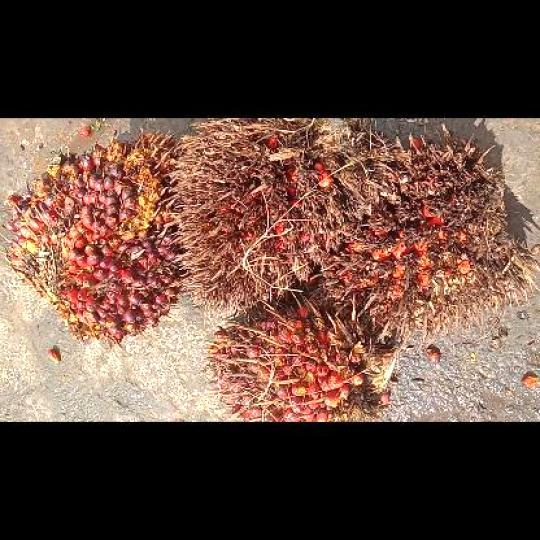masak: (0, 126, 187, 346), (203, 291, 397, 420)
terlalu masak: (311, 126, 538, 352), (163, 118, 390, 318)
